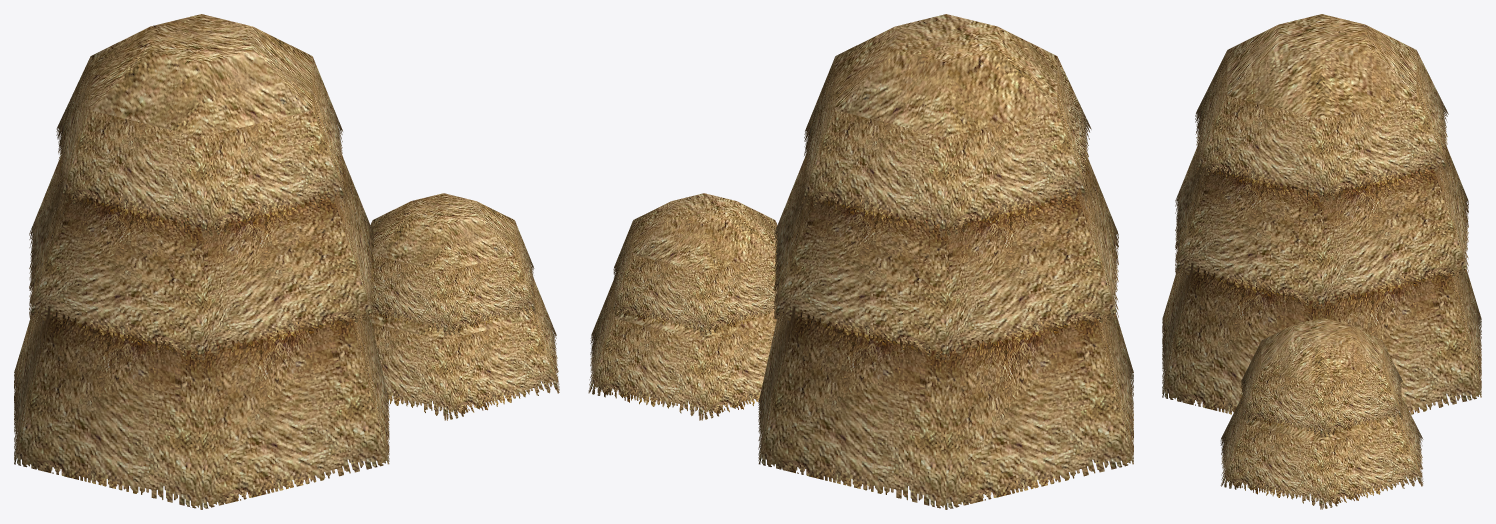
File: oas_kara_obj05.glb
3 renders of one model, left to right at view 1: azimuth 30°, elevation 25°; view 2: azimuth 150°, elevation 25°; view 3: azimuth 270°, elevation 25°, orthographic. The views are drawn at different scales.
Parts seen in each view (by area): view 1: oas_kara_obj05; view 2: oas_kara_obj05; view 3: oas_kara_obj05.
Part boxes in pixels (<box>): oas_kara_obj05: <box>14,14,559,509</box>; oas_kara_obj05: <box>588,14,1133,509</box>; oas_kara_obj05: <box>1162,14,1481,509</box>.
Bounding box in the file's own units: 2.65 × 1.79 × 1.59.
1 material, 1 textured.
